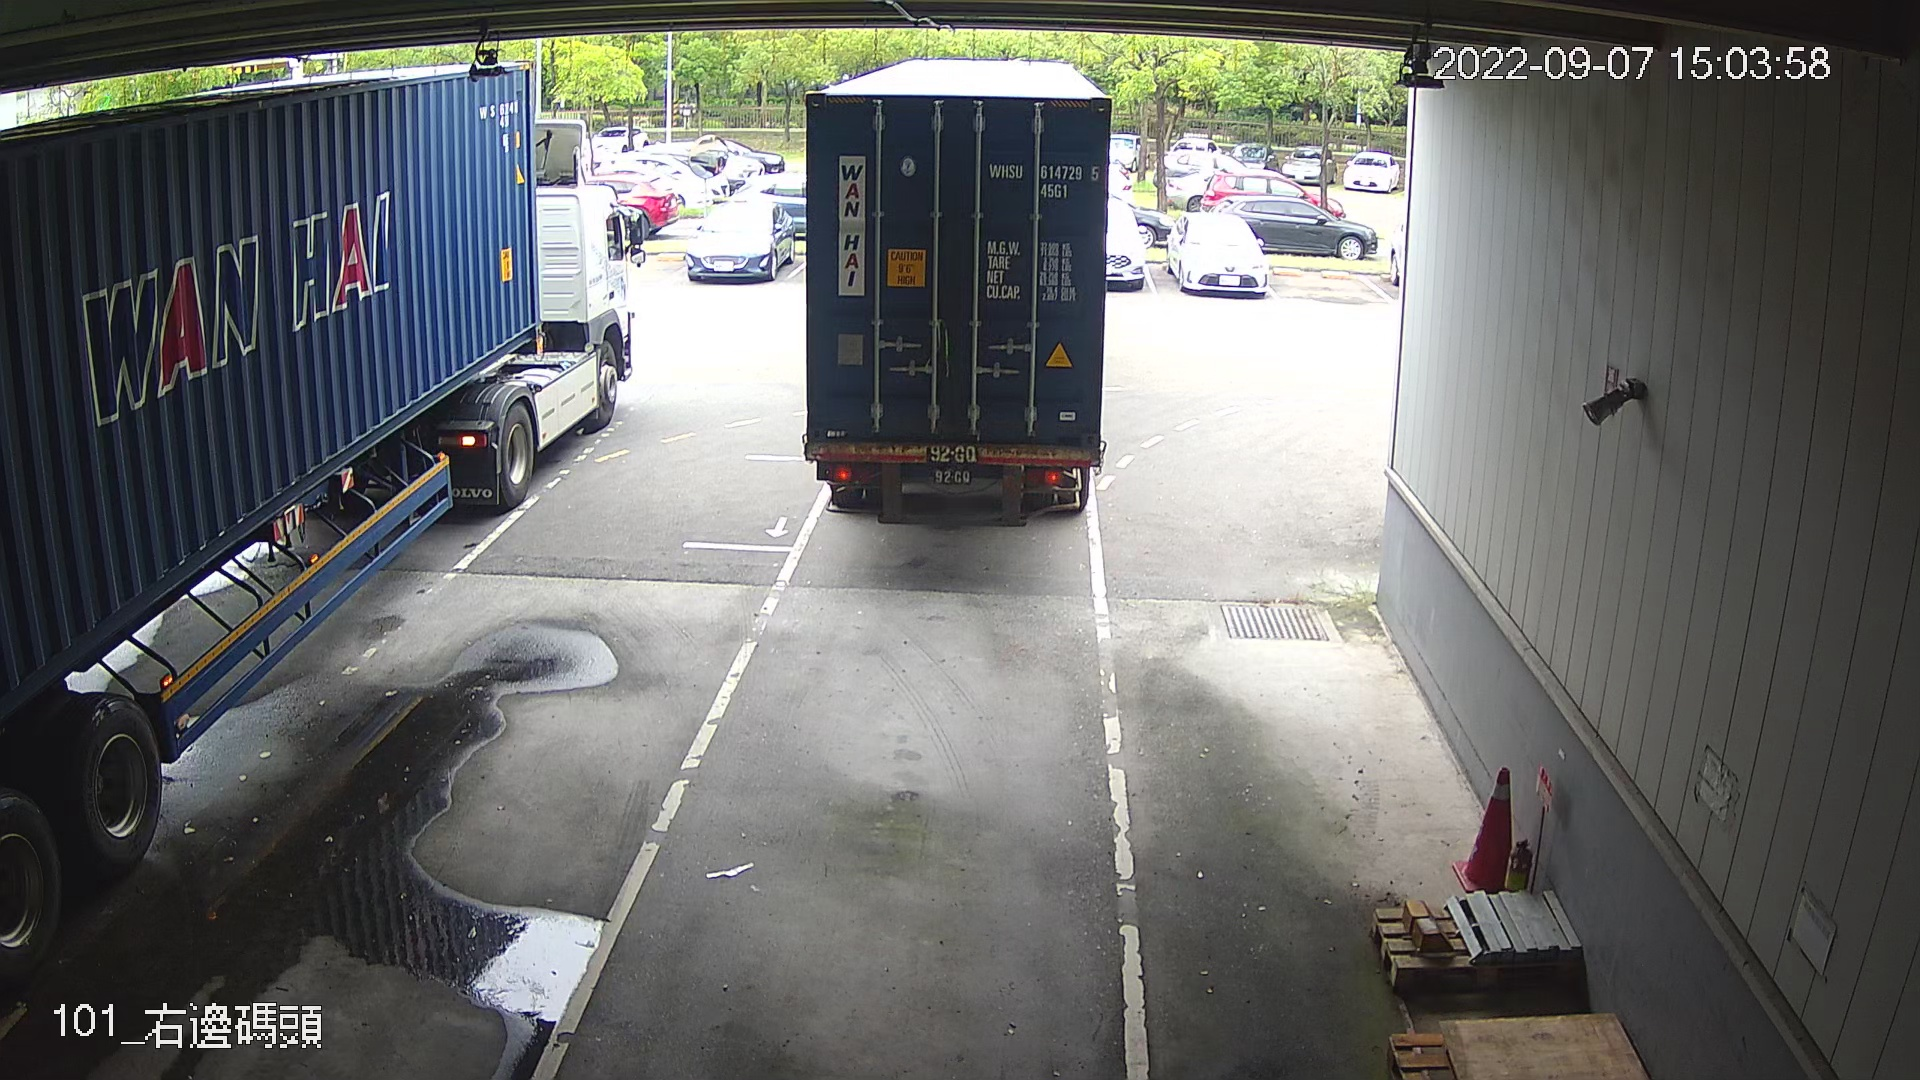container: (981, 149, 1104, 207)
